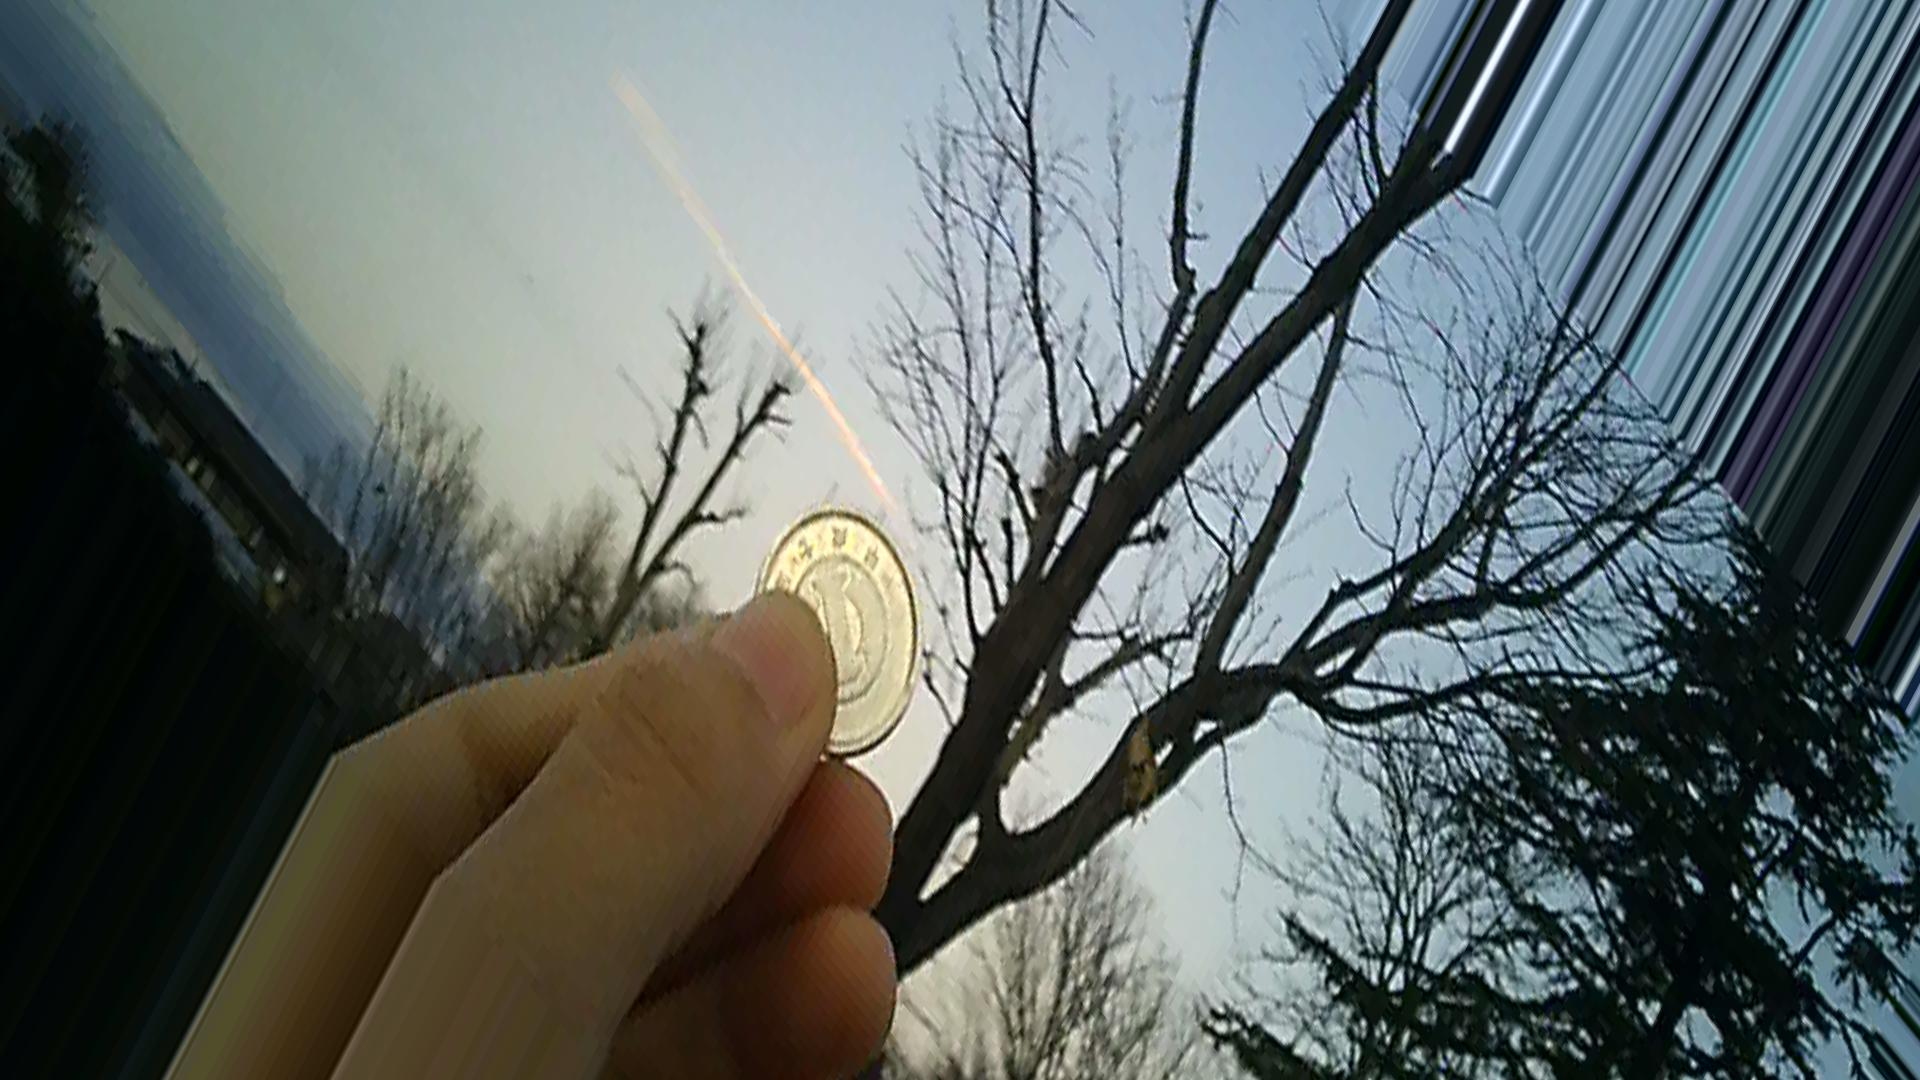1 Yen: (752, 505, 934, 756)
